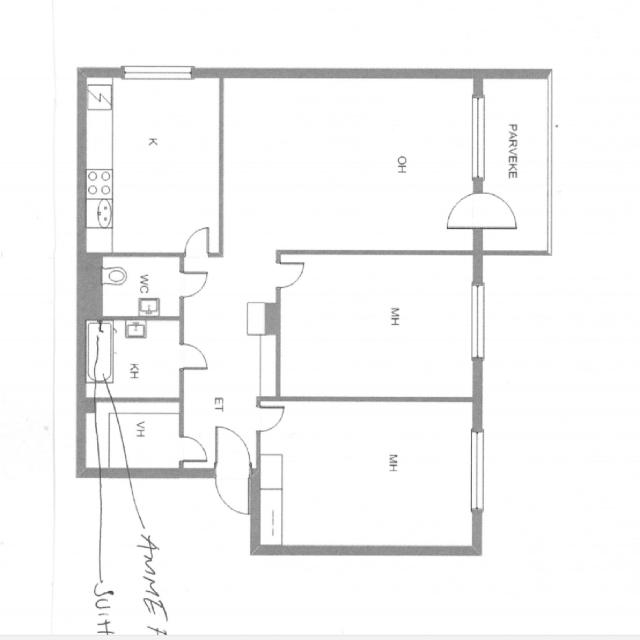door: (210, 424, 254, 518), (481, 188, 520, 230), (179, 221, 216, 264), (442, 190, 482, 229), (271, 255, 310, 291), (175, 265, 213, 301), (253, 398, 289, 434), (175, 338, 211, 374), (174, 432, 211, 465)
window: (463, 417, 492, 519), (462, 278, 493, 368), (472, 89, 487, 190), (115, 62, 198, 79)
zone: (215, 74, 479, 250), (256, 399, 477, 554), (274, 250, 474, 402), (81, 70, 222, 254), (80, 317, 182, 407), (81, 394, 184, 475), (98, 255, 182, 318)
